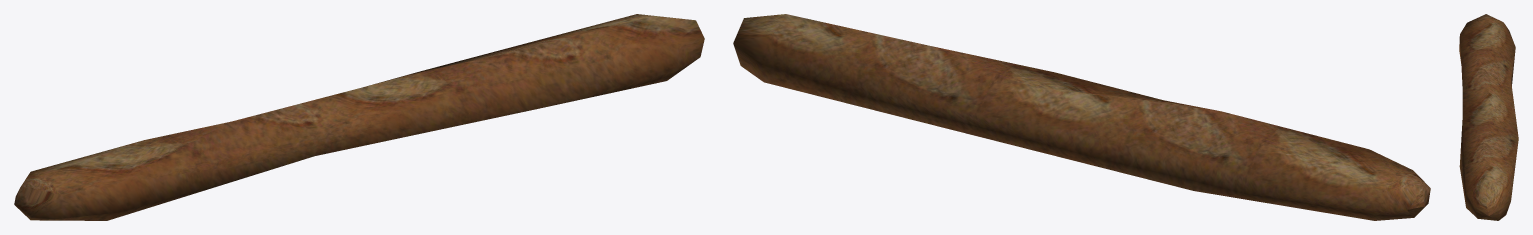
File: p_glo_bread_bgtte_lod1.glb
The picture shows the model from 3 angles, left to right: view 1: azimuth 30°, elevation 25°; view 2: azimuth 150°, elevation 25°; view 3: azimuth 270°, elevation 25°; orthographic projection. The views are drawn at different scales.
Parts seen in each view (by area): view 1: surf0; view 2: surf0; view 3: surf0.
Boxes of the visible parts, box(x1,y1,x2,y2) form: surf0: box(14, 14, 704, 220); surf0: box(733, 14, 1430, 220); surf0: box(1459, 14, 1518, 220).
Size of the model in its own units: 30.11 by 2.68 by 3.96.
